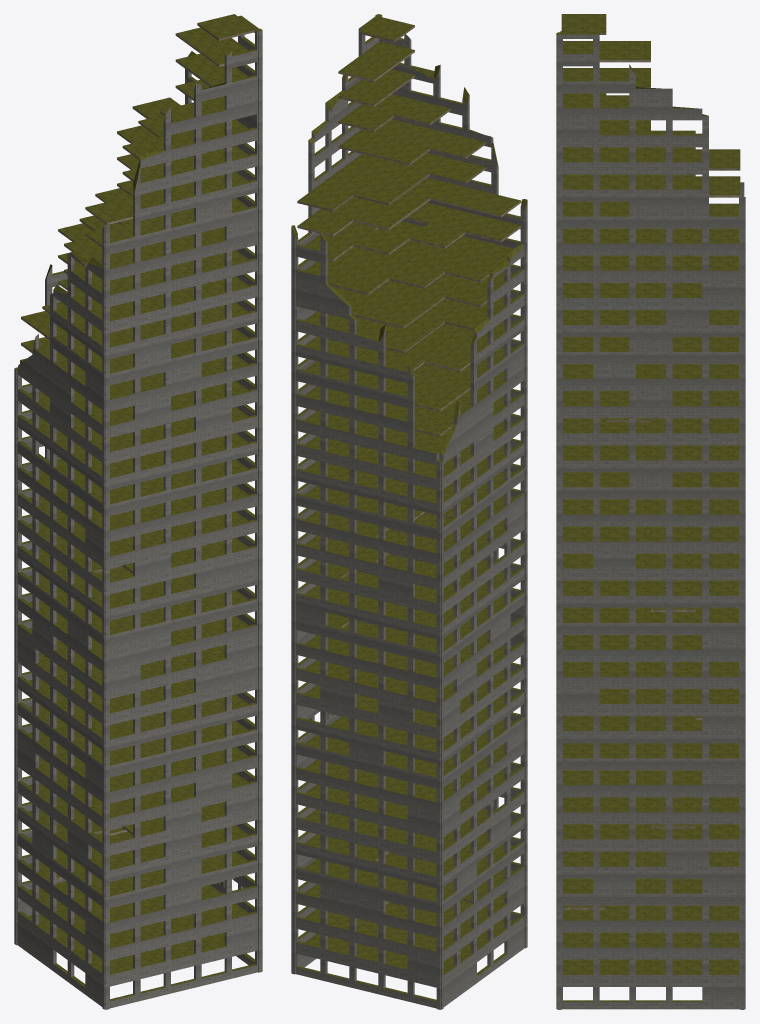
File: tower_d.gltf
3 renders of one model, left to right at view 1: azimuth 30°, elevation 25°; view 2: azimuth 150°, elevation 25°; view 3: azimuth 270°, elevation 25°, orthographic. The views are drawn at different scales.
Parts seen in each view (by area): view 1: tower_d; view 2: tower_d; view 3: tower_d.
Part boxes in pixels (<box>): tower_d: <box>14,14,262,1009</box>; tower_d: <box>291,14,527,1009</box>; tower_d: <box>556,14,745,1009</box>.
Size of the model in its own units: 22.8 by 130 by 22.8.
